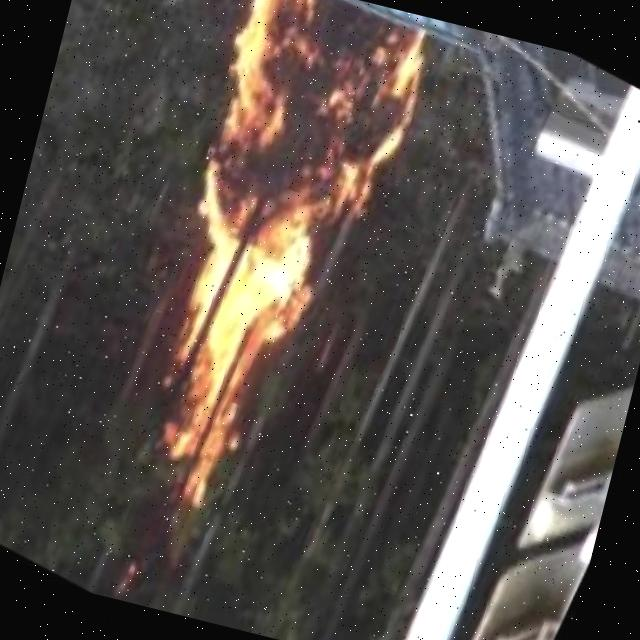fire: (104, 0, 454, 550)
